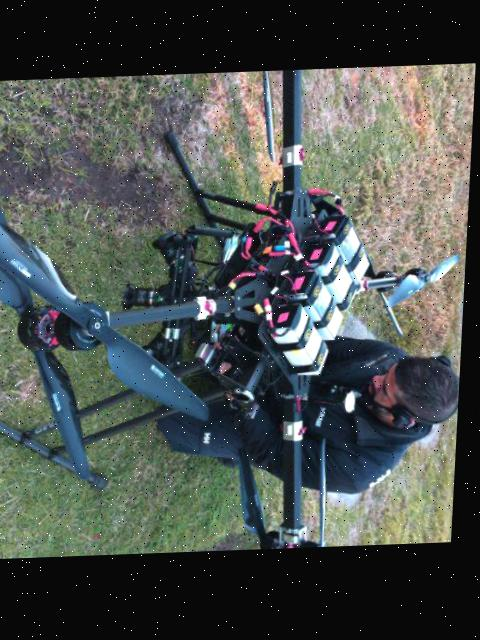drone: (0, 66, 477, 560)
